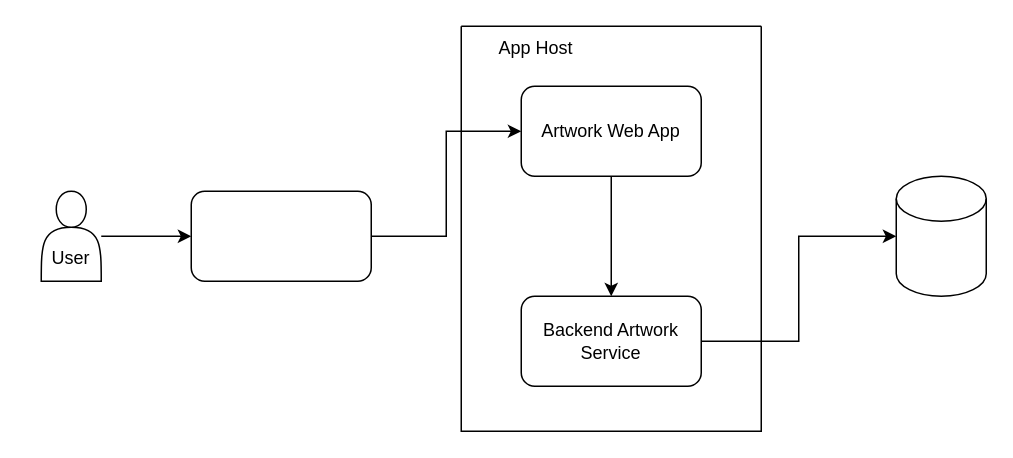
Image size: 1013x458. Some labels were removed from this diagram. Each missing label, with the box of its shape:
Browser Client: (190, 190, 371, 281)
Mongo DB: (895, 175, 986, 296)
